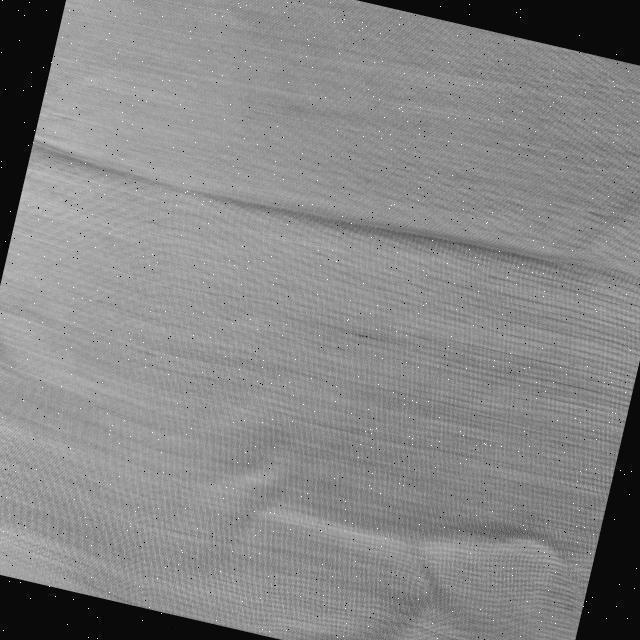broken_yarn: (36, 137, 554, 263)
